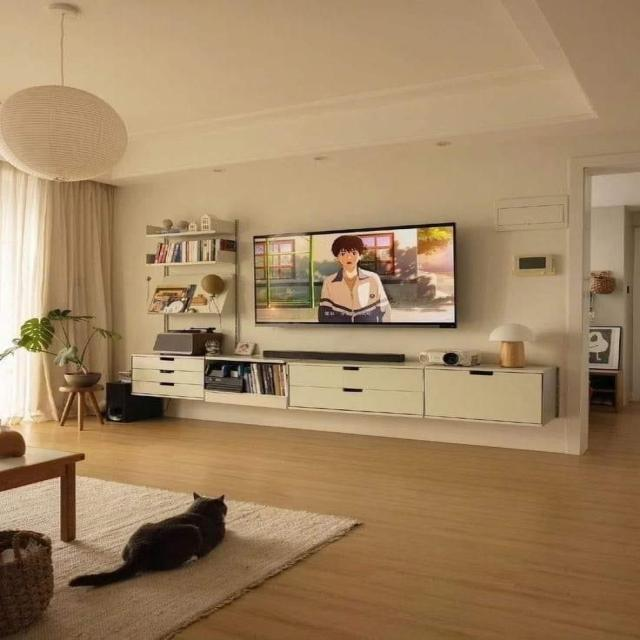obstacle: (133, 351, 558, 429), (0, 444, 85, 542)
